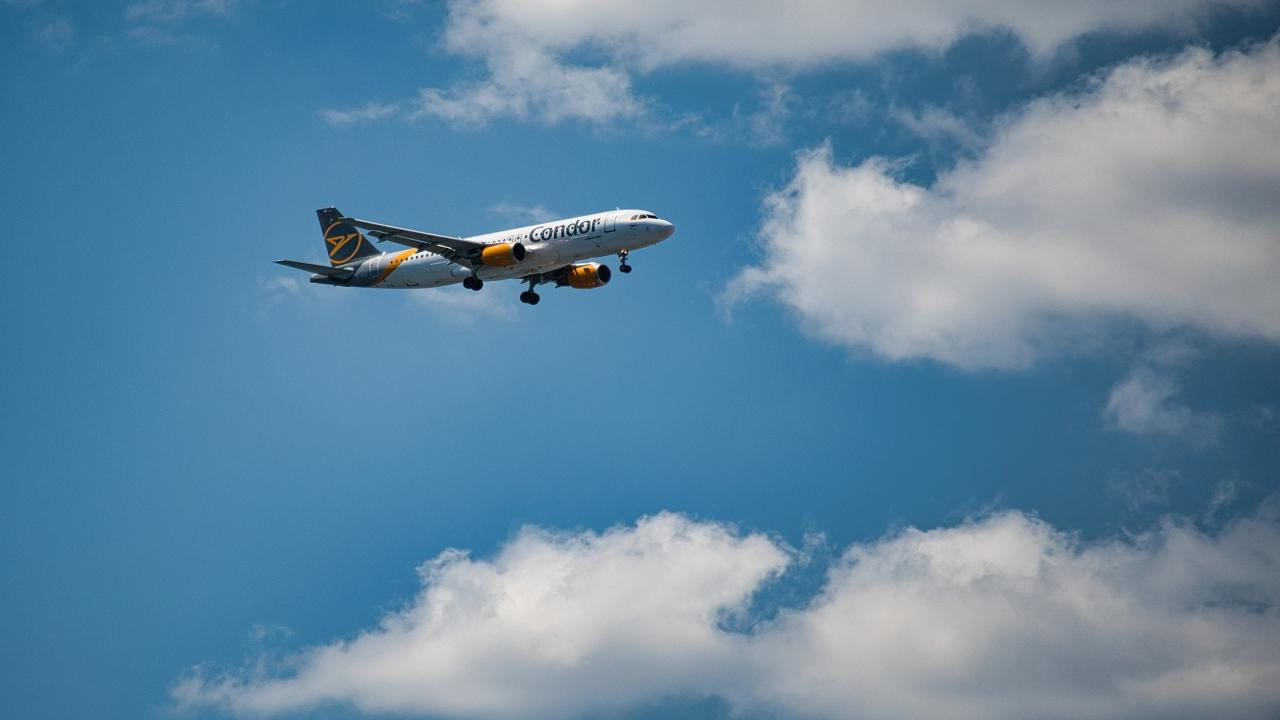Airplane: (261, 182, 690, 314)
